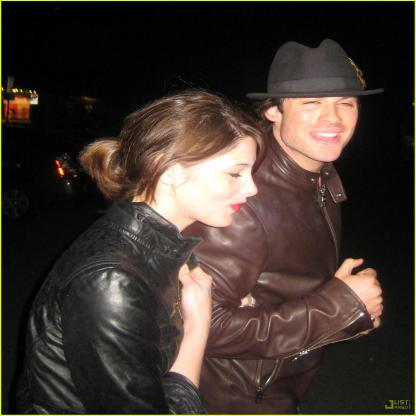face: (179, 136, 259, 228), (282, 77, 362, 165)
